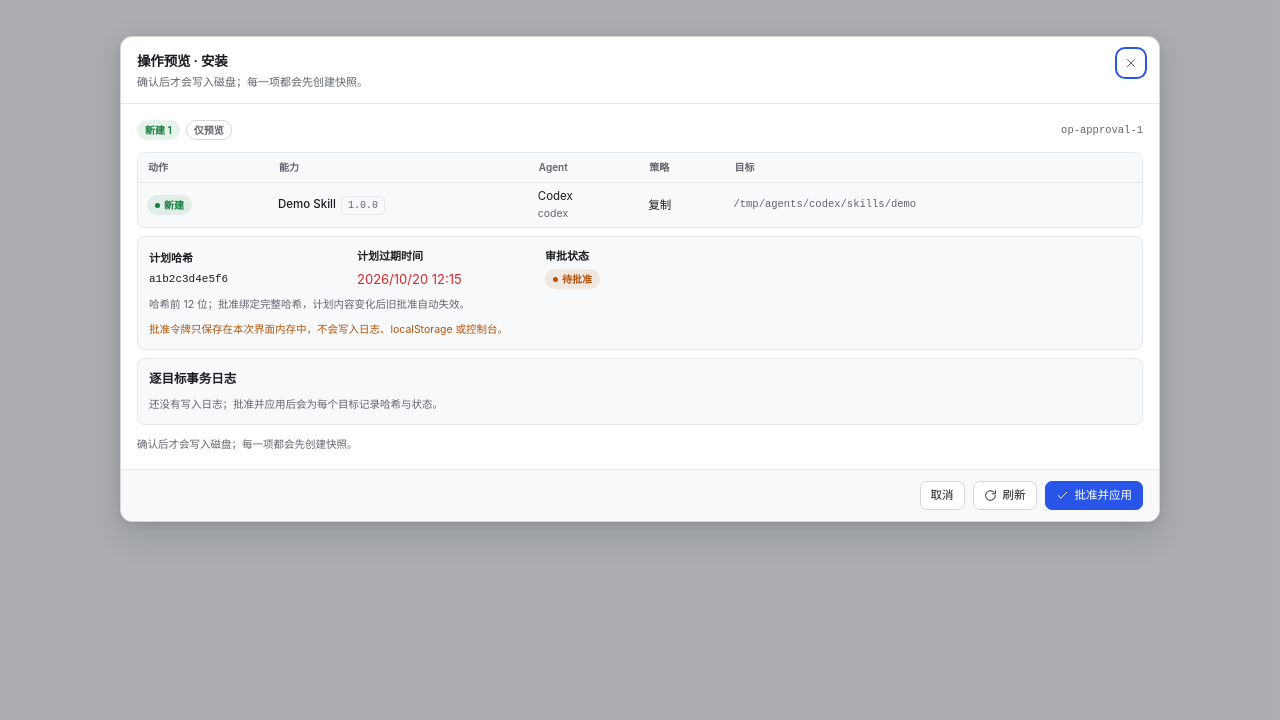
Scenario: PlanDialog two-step approval › previews the plan hash, then approves and applies with an in-memory token
This screenshot has width=1280, height=720.
Click the button "批准并应用" at (1094, 496), box left=1044, top=481, right=1143, bottom=510
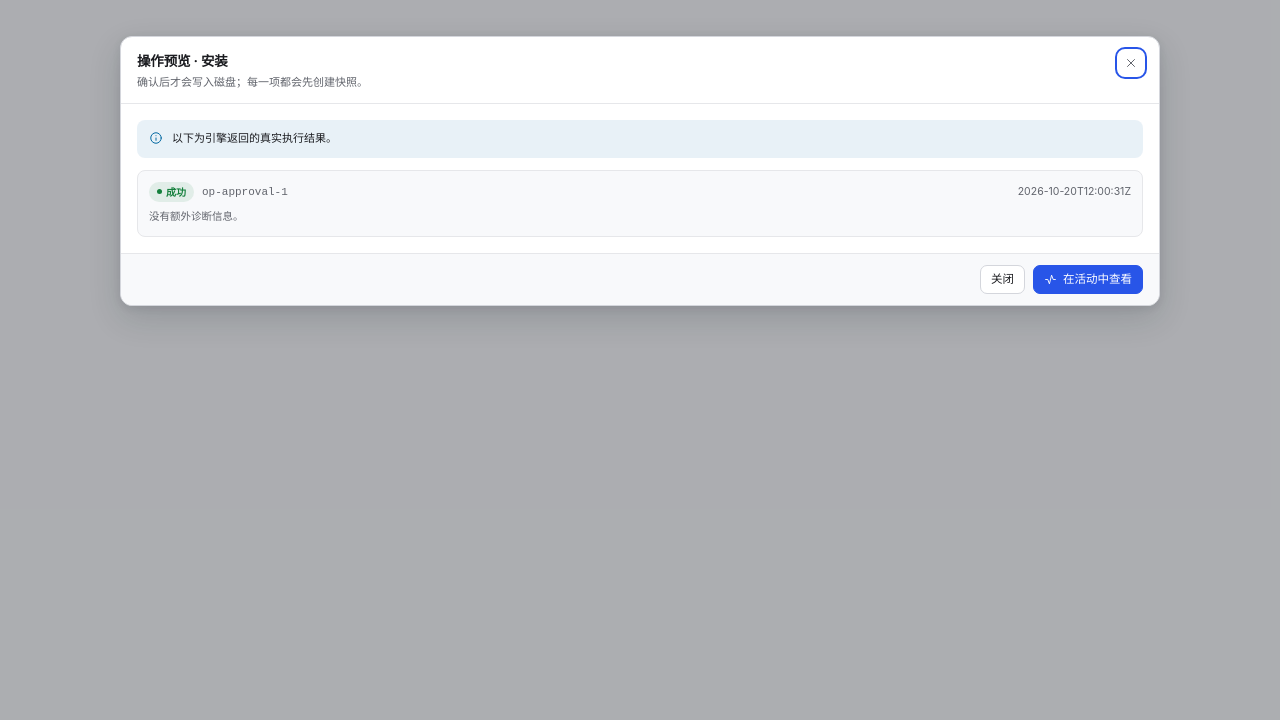
Now the text "以下为引擎返回的真实执行结果。" is shown, box left=172, top=130, right=337, bottom=148
